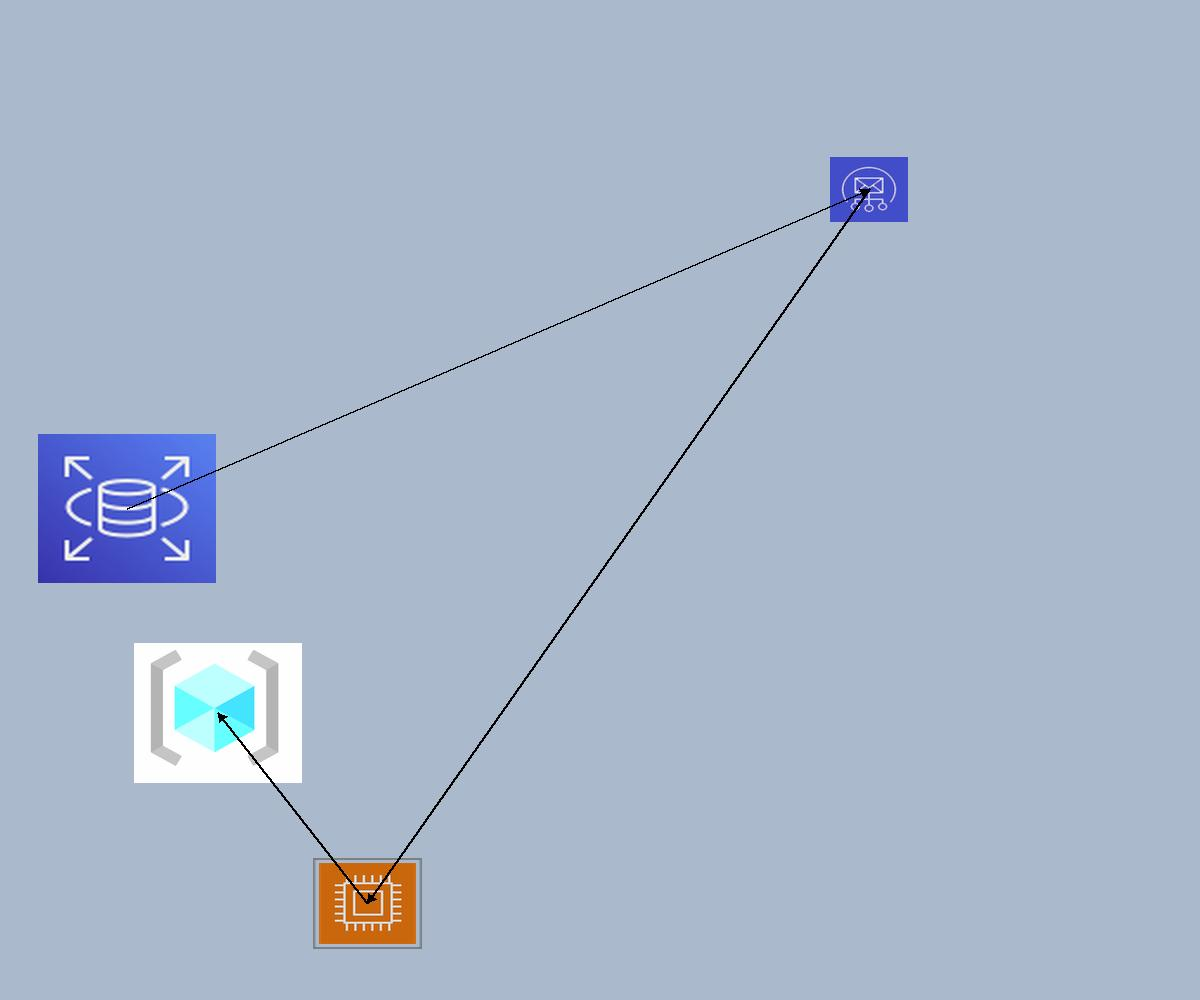AWS-Category_Compute: (313, 858, 422, 949)
AWS-RDS: (38, 434, 216, 583)
AWS-Simple-Email-Service: (830, 157, 908, 222)
Azure_resource_group: (134, 643, 302, 783)
